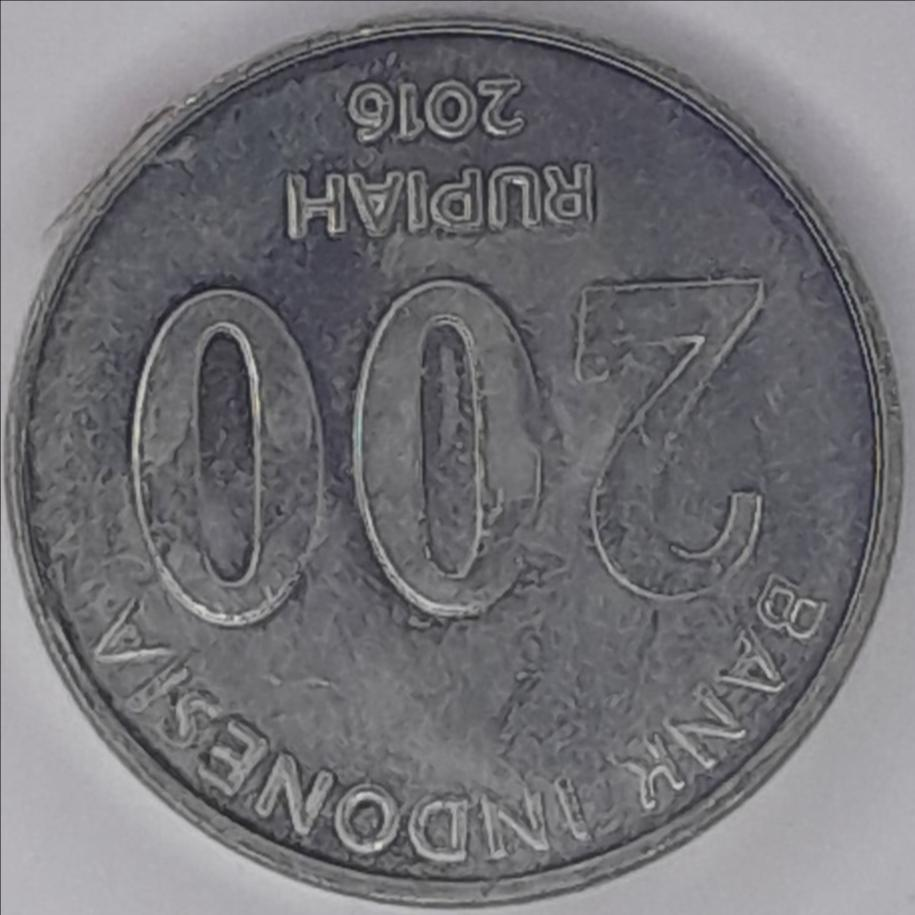coin_200_e2016: (0, 16, 915, 915)
